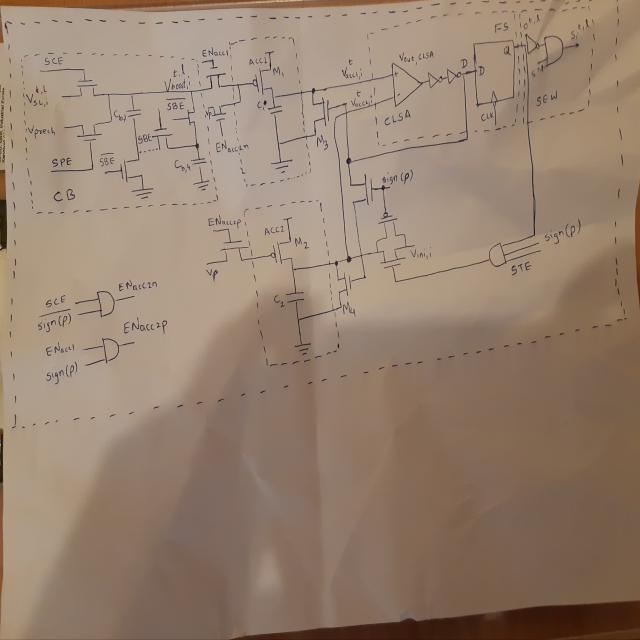capacitor: (286, 290, 305, 304), (189, 156, 208, 168), (267, 104, 283, 117), (126, 108, 142, 120)
crossover: (359, 252, 364, 258), (345, 110, 348, 114)
ground: (270, 156, 294, 175), (132, 186, 154, 202), (293, 340, 311, 359), (192, 178, 211, 193)
junction: (346, 157, 352, 166), (346, 254, 352, 263), (310, 87, 316, 94), (194, 142, 200, 149), (464, 135, 470, 142), (90, 164, 95, 172), (276, 141, 282, 147), (362, 274, 367, 280), (129, 91, 134, 97), (296, 317, 301, 323), (393, 278, 398, 284), (226, 226, 230, 233), (402, 232, 407, 237), (334, 260, 338, 266), (532, 231, 536, 237), (106, 91, 110, 97), (382, 184, 386, 190), (313, 131, 317, 137), (290, 267, 294, 272), (339, 303, 342, 309), (238, 99, 242, 103), (344, 101, 348, 105), (82, 67, 85, 72), (462, 72, 465, 77), (334, 116, 337, 120), (375, 239, 378, 243), (404, 244, 407, 248), (236, 83, 239, 86), (272, 96, 275, 99), (523, 44, 526, 47), (110, 119, 112, 123), (211, 58, 213, 61), (376, 251, 378, 254), (190, 90, 192, 92)
source: (282, 214, 293, 221), (264, 48, 275, 55)
terminal: (536, 248, 542, 254), (574, 42, 579, 49), (130, 294, 135, 300), (493, 121, 498, 126), (60, 94, 64, 100), (388, 184, 392, 190), (81, 346, 85, 352), (536, 60, 540, 65), (412, 243, 416, 248), (535, 241, 539, 246), (157, 106, 160, 112), (63, 124, 66, 130), (103, 170, 107, 174), (212, 229, 216, 233), (74, 301, 78, 305), (201, 60, 204, 65), (76, 312, 79, 317), (221, 133, 224, 137), (132, 340, 135, 344), (39, 69, 42, 72), (172, 118, 175, 121), (52, 169, 54, 172), (207, 105, 209, 108), (205, 263, 208, 265), (84, 364, 87, 366)
text: (544, 218, 584, 245), (44, 358, 78, 388), (123, 315, 170, 336), (37, 305, 72, 333), (117, 275, 160, 296), (164, 61, 191, 91), (45, 338, 77, 358), (206, 213, 242, 230), (340, 57, 364, 82), (398, 50, 435, 66), (382, 168, 414, 186), (25, 84, 49, 108), (384, 108, 412, 128), (214, 138, 249, 154), (569, 16, 592, 40), (26, 124, 57, 141), (534, 88, 560, 107), (350, 89, 373, 110), (164, 94, 188, 111), (510, 260, 532, 278), (43, 292, 67, 308), (51, 188, 76, 203), (201, 45, 229, 58), (410, 244, 432, 260), (522, 12, 540, 30), (98, 150, 115, 168), (174, 158, 191, 176), (136, 130, 152, 146), (52, 156, 72, 168), (294, 236, 310, 251), (494, 20, 511, 34), (316, 134, 329, 152), (44, 55, 63, 67), (205, 266, 219, 282), (529, 64, 545, 78), (342, 300, 355, 317), (264, 225, 284, 236), (247, 57, 268, 67), (273, 293, 286, 308), (272, 66, 285, 79), (480, 111, 494, 123), (113, 110, 126, 122), (256, 99, 267, 112), (503, 44, 511, 56), (204, 109, 212, 120), (478, 64, 485, 76), (460, 58, 468, 68), (394, 69, 398, 78), (395, 92, 401, 97)
transistor: (349, 172, 375, 206), (220, 238, 250, 264), (251, 65, 274, 95), (76, 119, 102, 145), (379, 245, 406, 270), (311, 95, 331, 128), (376, 210, 398, 239), (150, 125, 175, 150), (205, 64, 227, 92), (270, 238, 293, 264), (119, 157, 142, 180), (76, 78, 98, 100), (336, 272, 353, 297), (211, 104, 227, 124), (186, 106, 197, 128)
